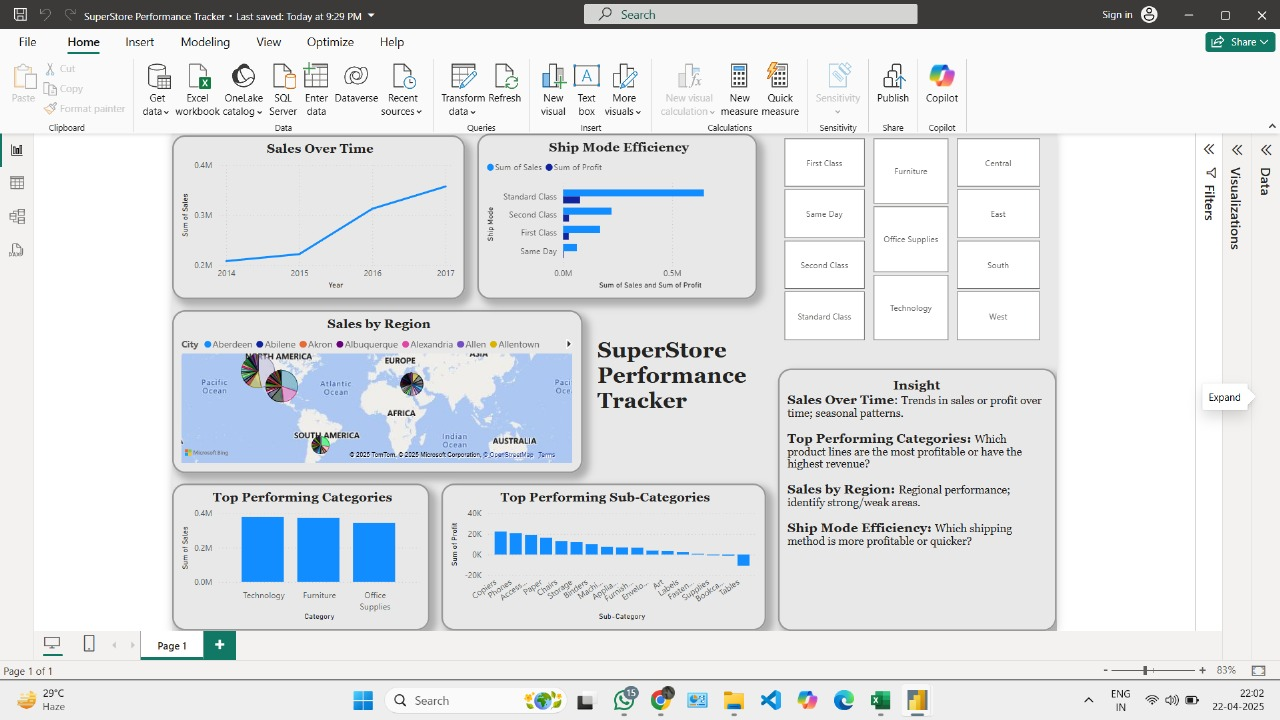

The page's visual inventory and layout, read from the dashboard file:
{"tool":"powerbi","page":{"name":"Page 1","canvas":[1280,720],"ordinal":0},"visuals":[{"type":"lineChart","title":" Sales Over Time","fields":{"Y":["Sum(Sample - Superstore.Sales)"],"Category":["Sample - Superstore.Order Date.Variation.Date Hierarchy.Year"]},"box":[0,2.5,423.8,237.5],"z":0,"group":"g1"},{"type":"clusteredColumnChart","title":"Top Performing Categories","fields":{"Category":["Sample - Superstore.Category"],"Y":["Sum(Sample - Superstore.Sales)"]},"box":[0,507.1,372.9,212.9],"z":1000,"group":"g1"},{"type":"clusteredColumnChart","title":"Top Performing Sub-Categories","fields":{"Category":["Sample - Superstore.Sub-Category"],"Y":["Sum(Sample - Superstore.Profit)"]},"box":[390,507.1,470,212.9],"z":2000,"group":"g1"},{"type":"map","title":"Sales by Region","fields":{"Category":["Sample - Superstore.Region"],"Size":["Sum(Sample - Superstore.Profit)"],"Series":["Sample - Superstore.City"]},"box":[0,255.7,594.3,235.7],"z":3000,"group":"g1"},{"type":"clusteredBarChart","title":"Ship Mode Efficiency","fields":{"Category":["Sample - Superstore.Ship Mode"],"Y":["Sum(Sample - Superstore.Sales)","Sum(Sample - Superstore.Profit)"]},"box":[441.4,0,405.7,240],"z":4000,"group":"g1"},{"type":"textbox","box":[877.1,340,402.9,380],"z":5000,"group":"g1"},{"type":"textbox","box":[610,290,237.5,167.5],"z":9000,"group":"g1"},{"type":"group","id":"g1","title":"Group 1","box":[0,0,1280,720],"z":9001},{"type":"slicer","fields":{"Values":["Sample - Superstore.Ship Mode"]},"box":[860,0,166.2,306.2],"z":9002},{"type":"slicer","fields":{"Values":["Sample - Superstore.Category"]},"box":[988.8,0,158.8,306.2],"z":9003},{"type":"slicer","fields":{"Values":["Sample - Superstore.Region"]},"box":[1110,0,170,306.2],"z":9004}]}

Visuals, with their boxes on the page's 1280x720 design canvas (x1, y1, x2, y2). These are canvas units, not pixel positions in the 1280x720 screenshot, which may show the page scaled, cropped or inside an application window:
" Sales Over Time" lineChart: x1=0 y1=2 x2=424 y2=240
"Top Performing Categories" clusteredColumnChart: x1=0 y1=507 x2=373 y2=720
"Top Performing Sub-Categories" clusteredColumnChart: x1=390 y1=507 x2=860 y2=720
"Sales by Region" map: x1=0 y1=256 x2=594 y2=491
"Ship Mode Efficiency" clusteredBarChart: x1=441 y1=0 x2=847 y2=240
textbox: x1=877 y1=340 x2=1280 y2=720
textbox: x1=610 y1=290 x2=848 y2=458
"Group 1" group: x1=0 y1=0 x2=1280 y2=720
slicer - Sample - Superstore.Ship Mode: x1=860 y1=0 x2=1026 y2=306
slicer - Sample - Superstore.Category: x1=989 y1=0 x2=1148 y2=306
slicer - Sample - Superstore.Region: x1=1110 y1=0 x2=1280 y2=306
